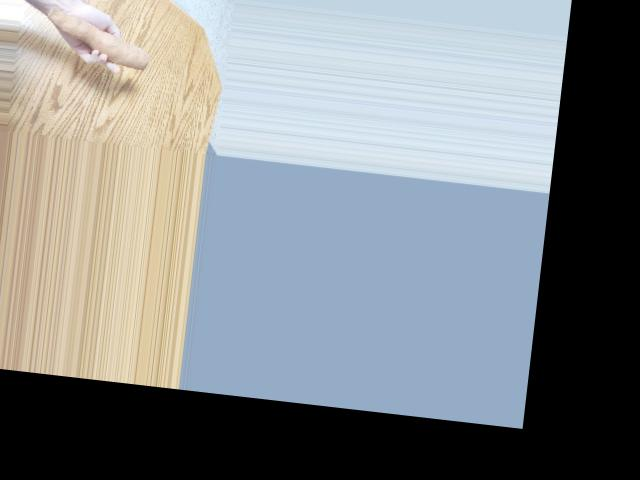sweet_potato: (42, 6, 150, 63)
